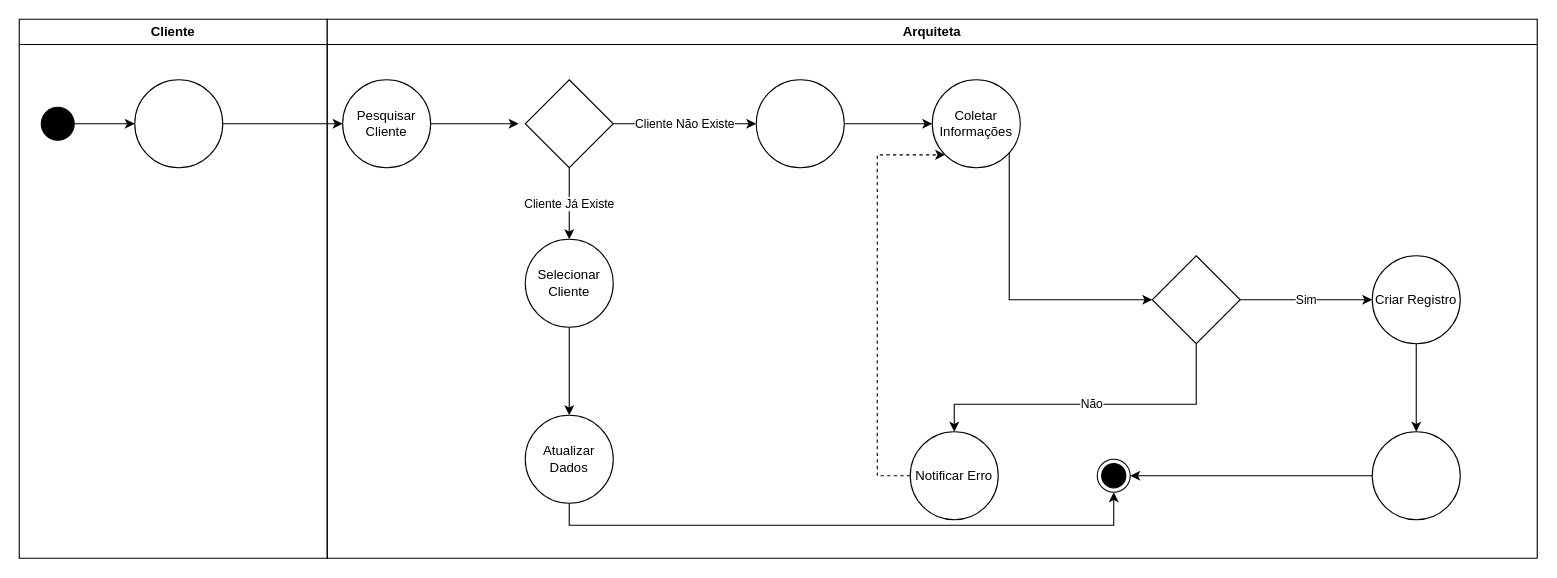
This 1557x578 diagram has some shape labels left out. The shapes that lost their labels are listed below. From the top down, each one's centre as x and y in pixels, then its label:
the point at 178,123: Solicita Projeto
the point at 799,123: Cadastrar Cliente
the point at 1195,299: Validar Dados
the point at 1415,475: Finalizar Cadastro
